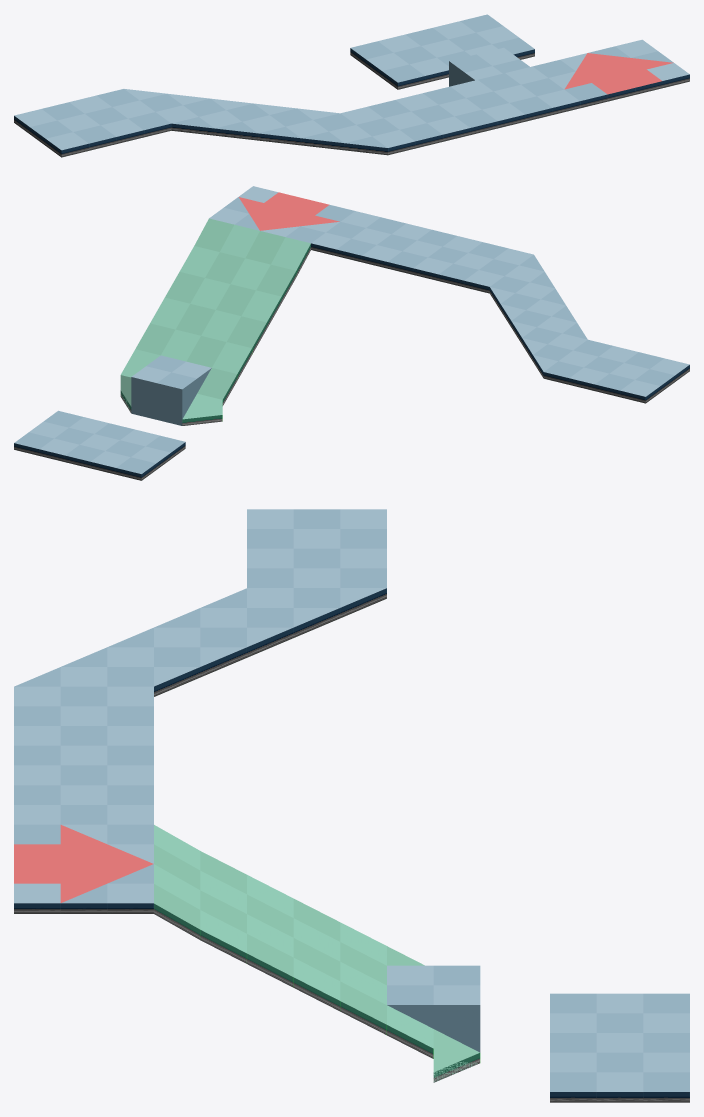
File: level_2.glb
3 renders of one model, top to bottom at view 1: azimuth 30°, elevation 25°; view 2: azimuth 150°, elevation 25°; view 3: azimuth 270°, elevation 25°, orthographic. The views are drawn at different scales.
Parts seen in each view (by area): view 1: OBJ_0B_0008C0; view 2: OBJ_0B_0008C0; view 3: OBJ_0B_0008C0.
Boxes of the visible parts, left/top/right/bottom form: OBJ_0B_0008C0: left=14, top=14, right=689, bottom=157; OBJ_0B_0008C0: left=14, top=186, right=689, bottom=480; OBJ_0B_0008C0: left=14, top=509, right=689, bottom=1102.
Bounding box in the file's own units: 21 × 4.25 × 14.5.
Materials: 7 (1 with a texture image).
